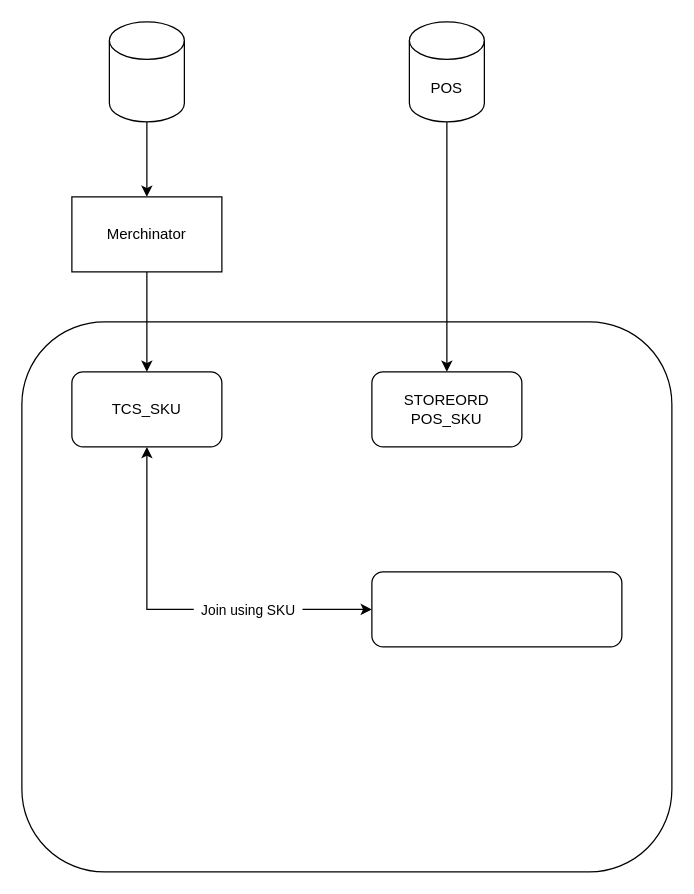
This 694x894 diagram has some shape labels left out. The shapes that lost their labels are listed below. From the top down, each one's centre as x and y in pixels, then its label:
the point at 146,71: MMS
the point at 496,609: SELLING_SYSTEM_REPL POS_SKU_UPC
